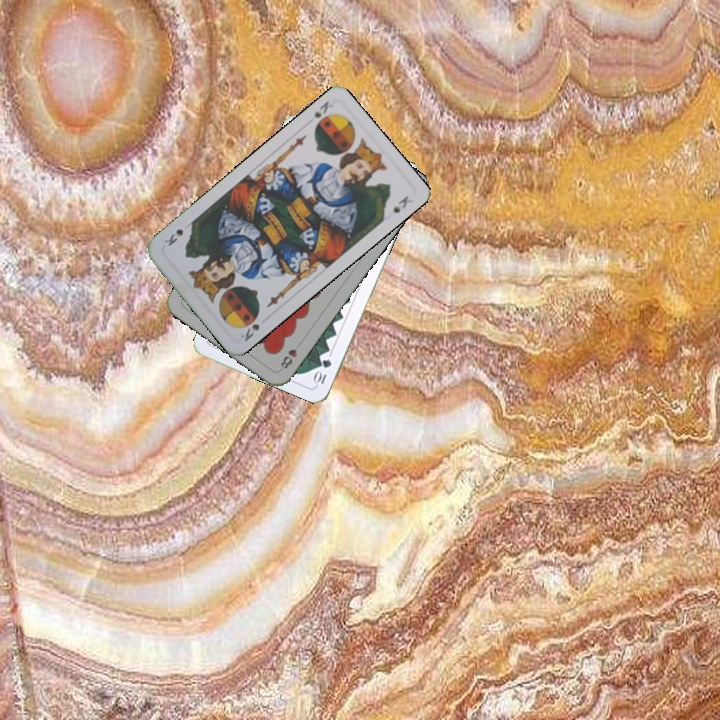G10: (310, 355, 334, 387)
H8: (276, 344, 300, 372)
SK: (302, 96, 336, 131), (236, 319, 262, 344)
